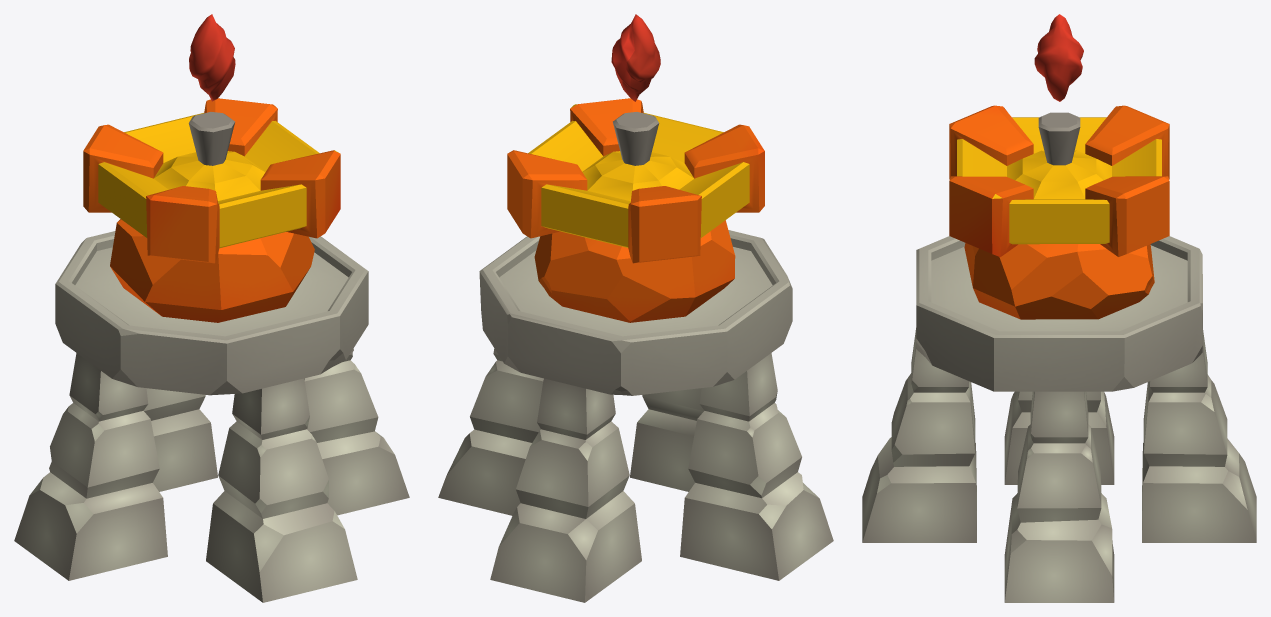
File: islnd4-firestone1.fbx
3 renders of one model, left to right at view 1: azimuth 30°, elevation 25°; view 2: azimuth 150°, elevation 25°; view 3: azimuth 270°, elevation 25°, orthographic.
Parts seen in each view (by area): view 1: island4-firestone1, island4-firestone1.01; view 2: island4-firestone1, island4-firestone1.01; view 3: island4-firestone1, island4-firestone1.01.
Part boxes in pixels (x1,y1,x2,y2): island4-firestone1: [14, 98, 409, 602]; island4-firestone1.01: [189, 14, 235, 101]; island4-firestone1: [438, 98, 833, 602]; island4-firestone1.01: [611, 14, 660, 101]; island4-firestone1: [862, 105, 1256, 602]; island4-firestone1.01: [1034, 14, 1083, 101].
Bounding box in the file's own units: 2.41 × 3.41 × 2.41.
1 material, 1 textured.
